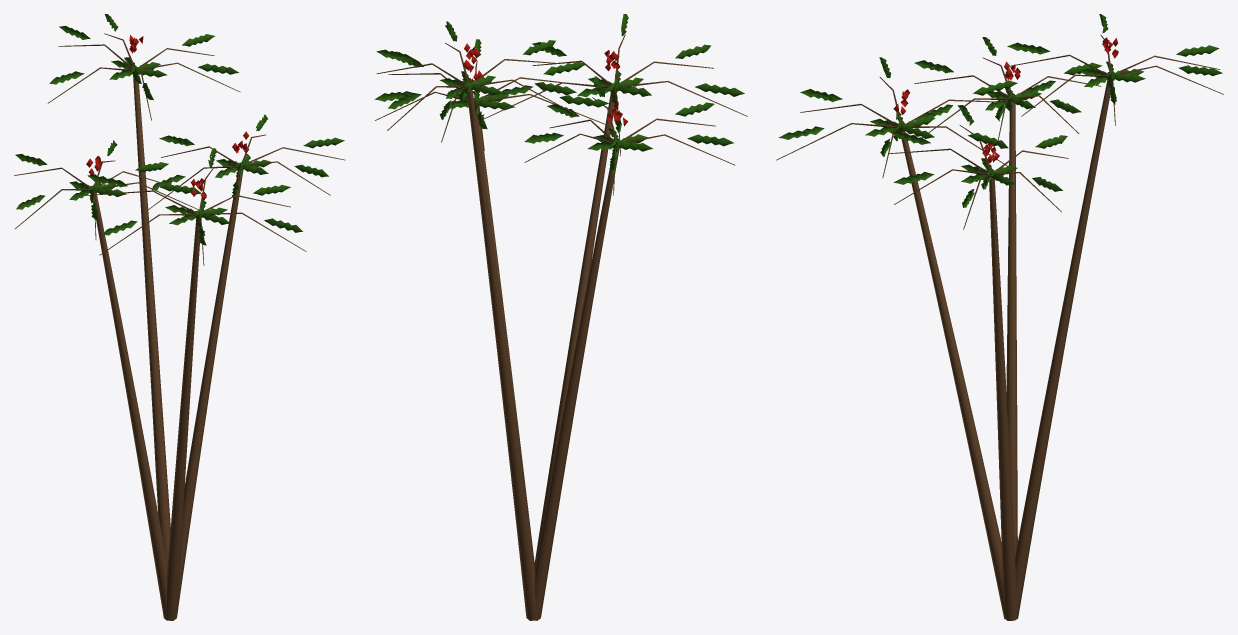
The model's file is Shrub_Sumac.glb.
The picture shows the model from 3 angles, left to right: view 1: azimuth 30°, elevation 25°; view 2: azimuth 150°, elevation 25°; view 3: azimuth 270°, elevation 25°; orthographic projection. The views are drawn at different scales.
Visible parts, largest first — view 1: Shrub_Sumac; view 2: Shrub_Sumac; view 3: Shrub_Sumac.
Boxes of the visible parts, x1=… form: Shrub_Sumac: x1=14, y1=14, x2=345, y2=620; Shrub_Sumac: x1=374, y1=14, x2=747, y2=620; Shrub_Sumac: x1=776, y1=14, x2=1223, y2=620.
Bounding box in the file's own units: 2.53 × 4.11 × 2.84.
